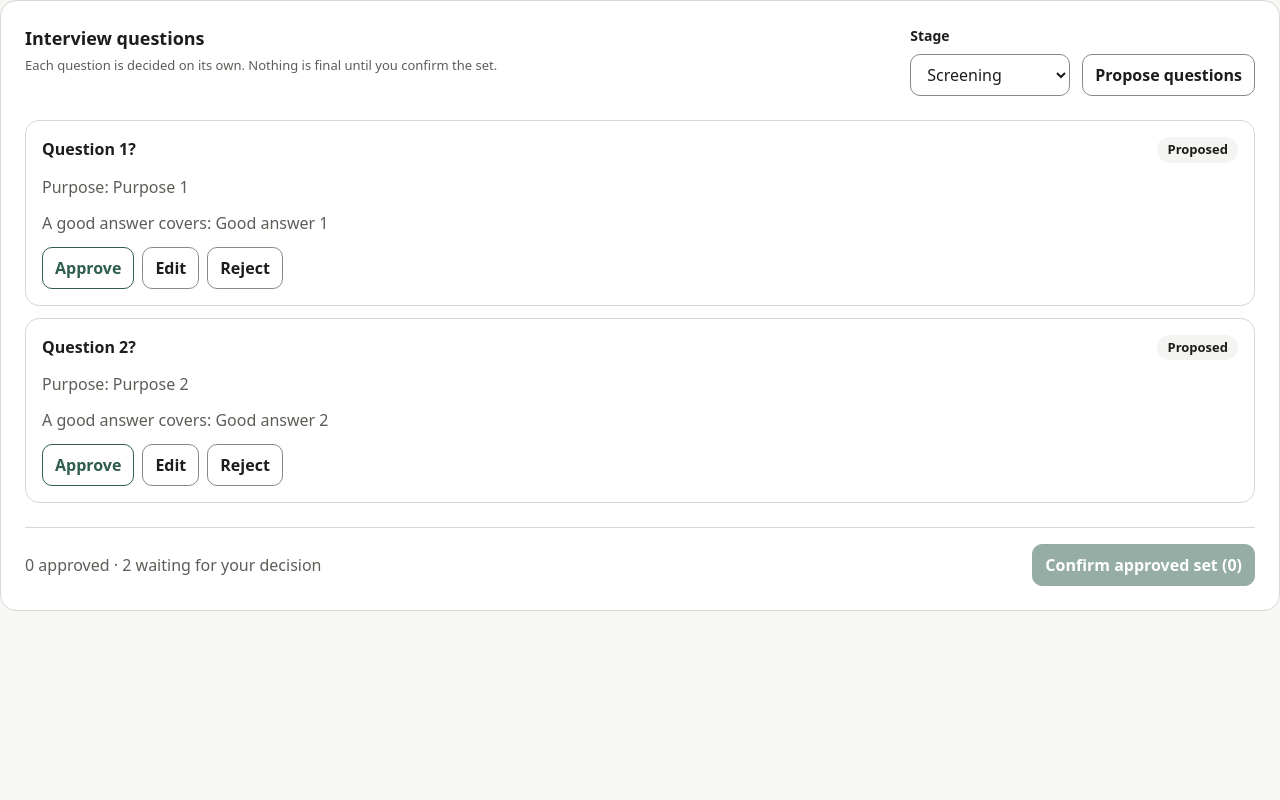
Test case: QuestionReview › approves one question on its own and confirms the approved set
Click the button "Approve" below "Question 1?". click: click(88, 268)
box: x1=42 y1=246 x2=134 y2=288
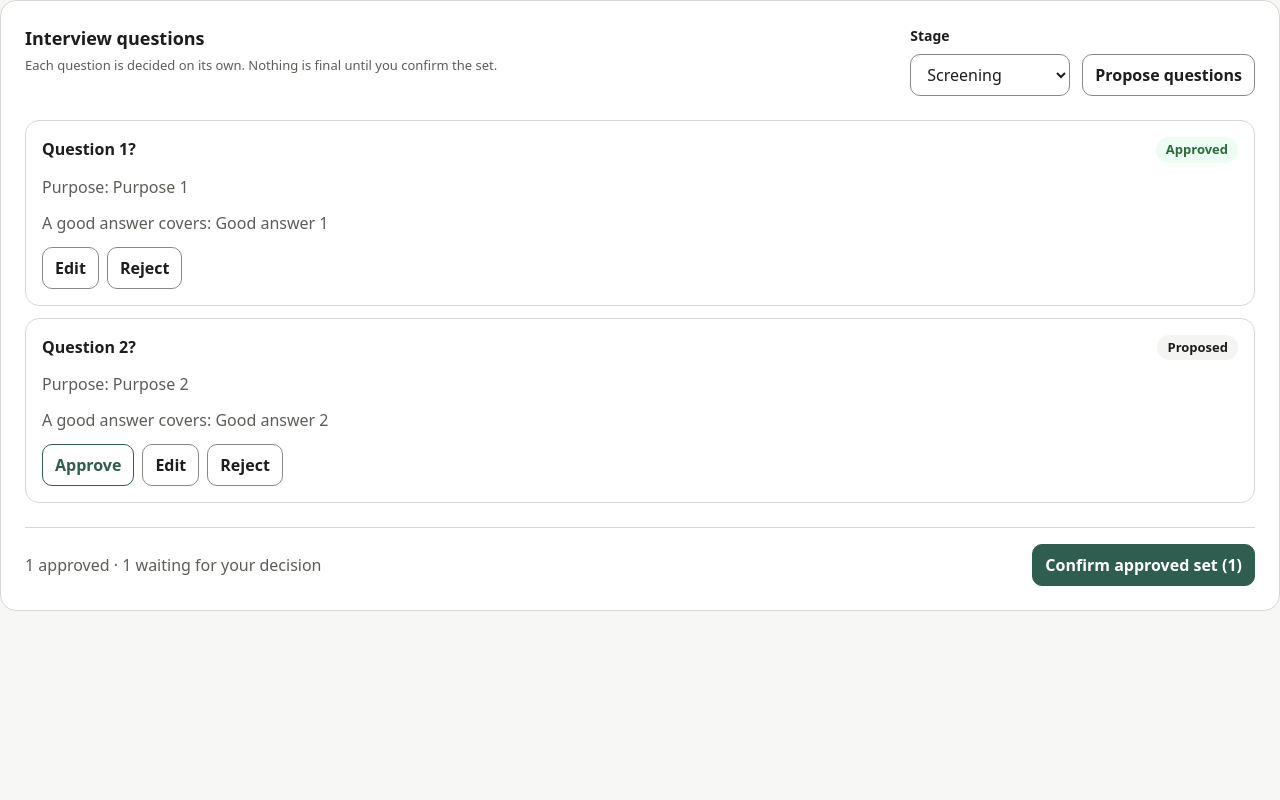
Expected: the button "Confirm approved set (1)" is shown
Click the button "Confirm approved set (1)". click: click(1144, 565)
box: x1=1032 y1=544 x2=1255 y2=586
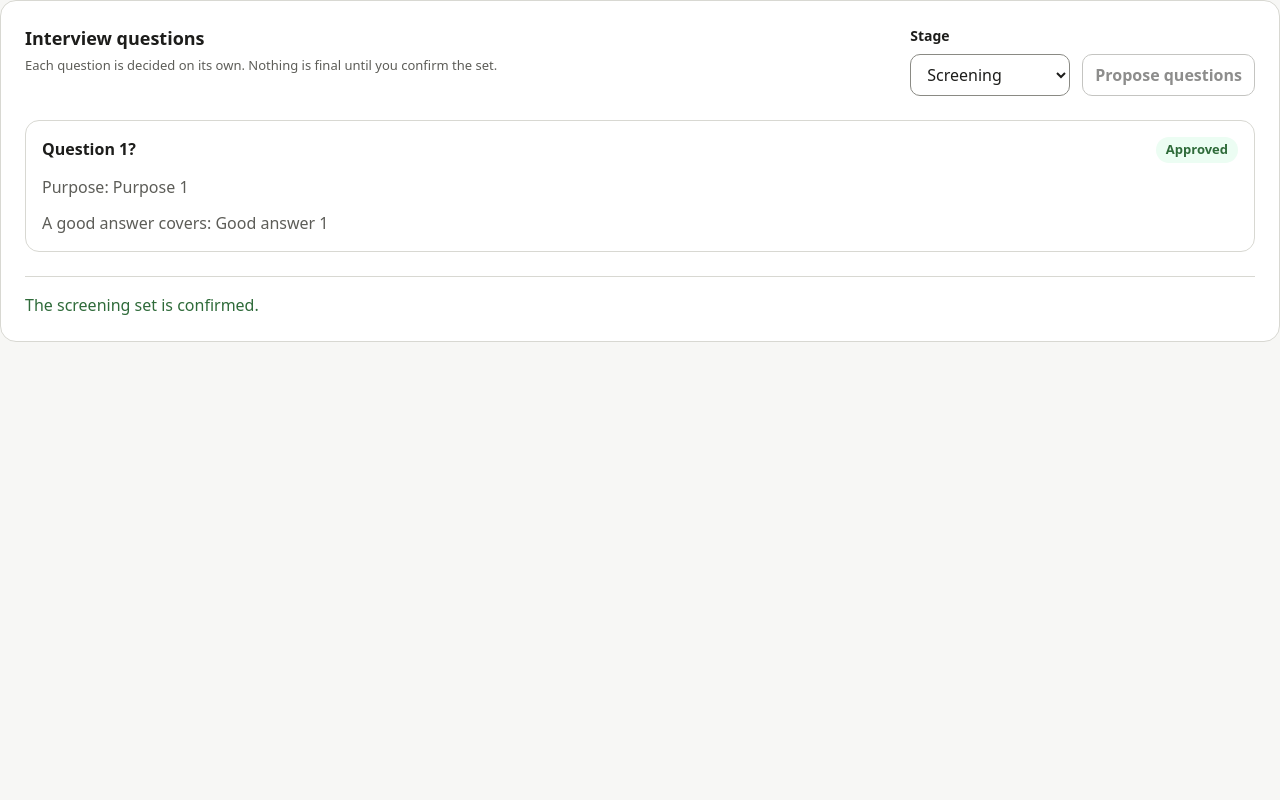
Expected: the message reads "The screening set is confirmed.", x1=25 y1=292 x2=259 y2=316
